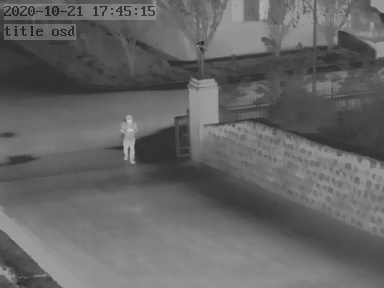person: (120, 111, 138, 164)
